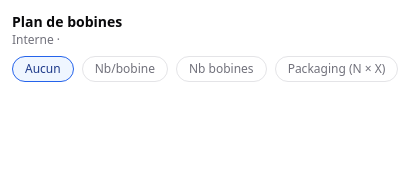
Test case: PlanificateurBobines — finition (persistance + Q + forçage) › 3 modes IMPOSE rendus comme radios mutuellement exclusifs
Check: the element with test id "plan-bobines-mode-selector" is shown, box [12,56,398,82]
Click the radio button with test id "plan-bobines-mode-packaging" at [336, 69], box [275,56,398,82]
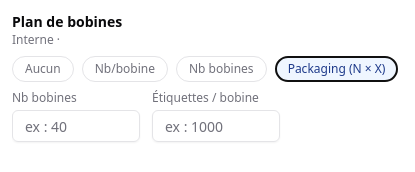
Check: the number field labelled "Nb bobines" is shown, box [12,110,140,142]
Check: the number field labelled "Étiquettes / bobine" is shown, box [152,110,280,142]
